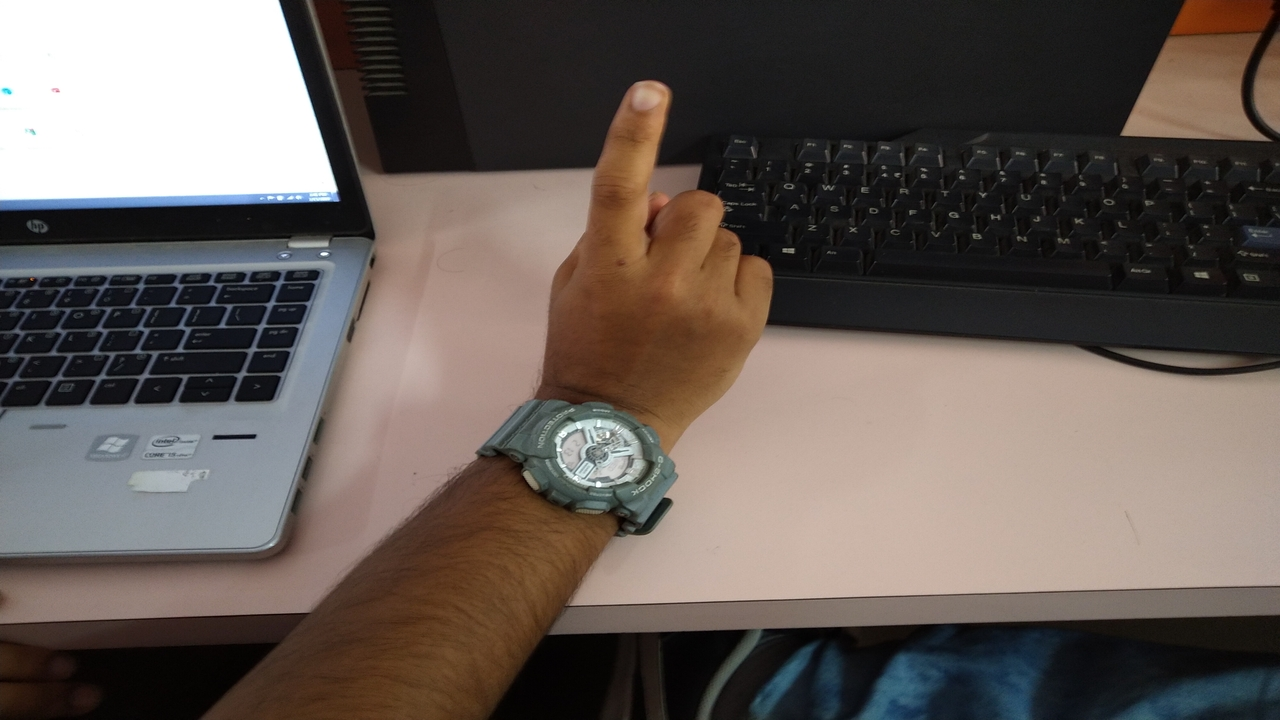fingertip: (612, 76, 674, 122)
